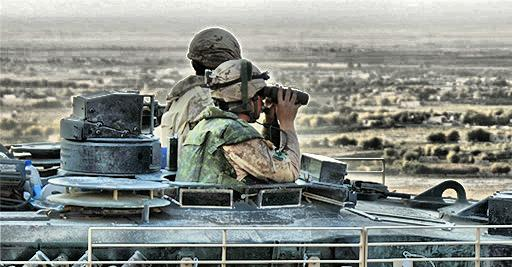tanks: (1, 159, 512, 267)
